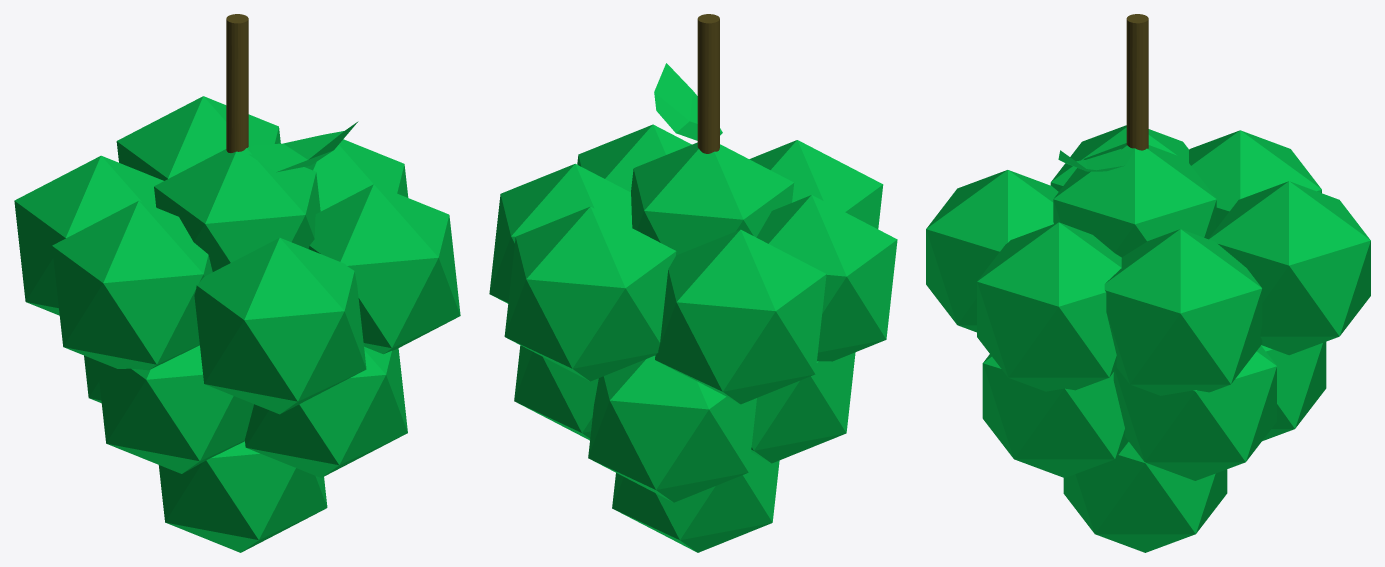
Rendered from Grapes.glb.
The picture shows the model from 3 angles, left to right: view 1: azimuth 30°, elevation 25°; view 2: azimuth 150°, elevation 25°; view 3: azimuth 270°, elevation 25°; orthographic projection.
Parts seen in each view (by area): view 1: Plane, Cylinder; view 2: Plane, Cylinder; view 3: Plane, Cylinder.
Boxes of the visible parts, box(x1,y1,x2,y2) form: Plane: box(14, 96, 460, 552); Cylinder: box(226, 14, 248, 152); Plane: box(489, 63, 897, 552); Cylinder: box(697, 14, 719, 153); Plane: box(926, 125, 1370, 552); Cylinder: box(1126, 14, 1148, 150).
Bounding box in the file's own units: 0.7687 × 1.08 × 0.8218.
3 materials, 3 textured.
